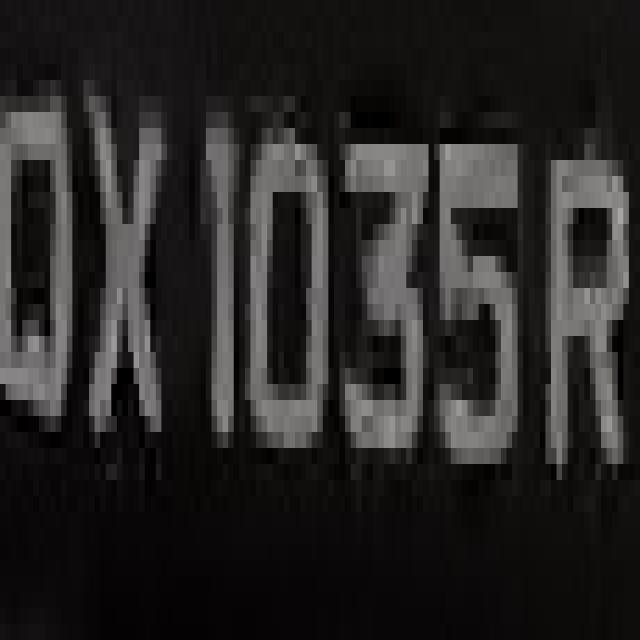0: (245, 80, 339, 496)
1: (200, 96, 240, 432)
3: (334, 80, 440, 480)
5: (428, 64, 518, 512)
Q: (6, 64, 89, 496)
R: (534, 64, 629, 544)
X: (78, 64, 167, 464)
